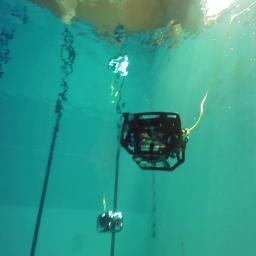Side: (120, 111, 187, 173)
front: (96, 212, 124, 234)
